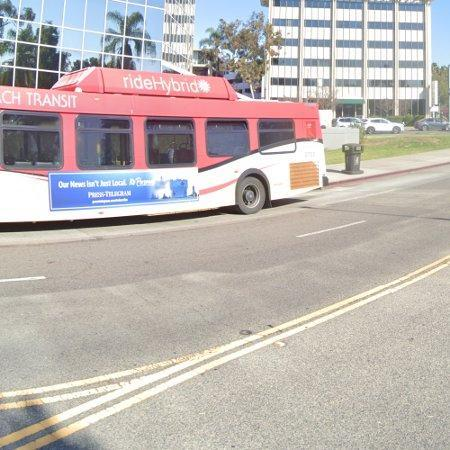buses: (0, 67, 326, 222)
